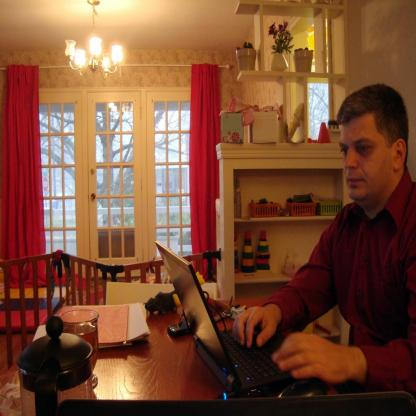board: (156, 240, 321, 392)
